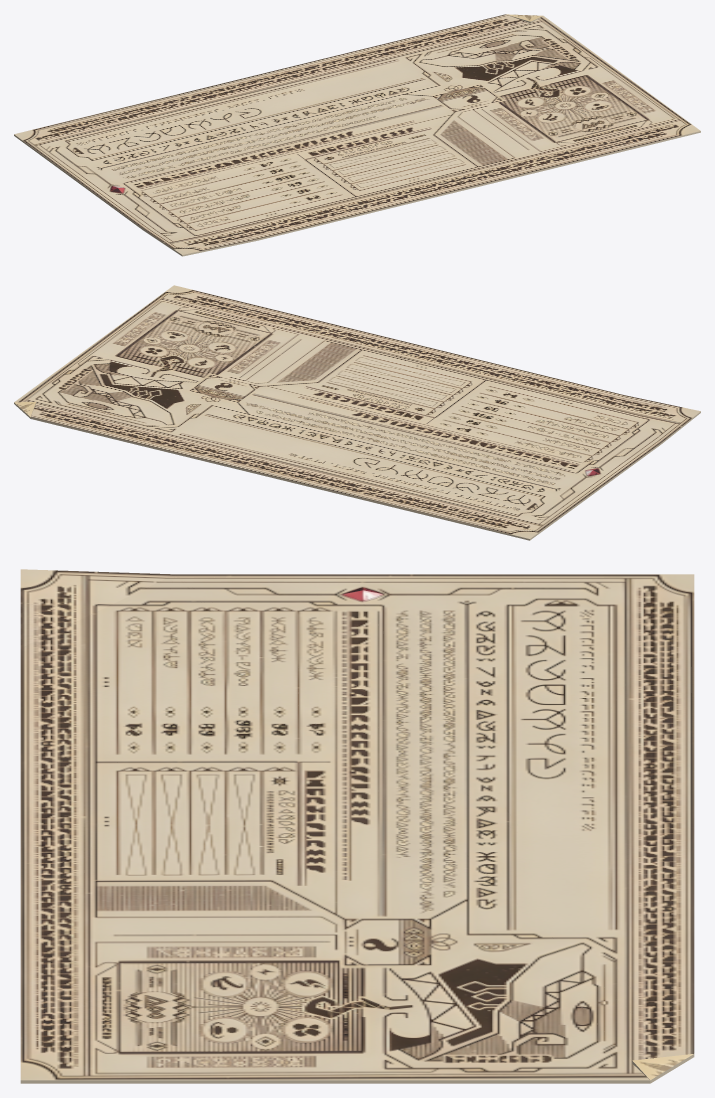
The model's file is Megumins Guild Stat Card.fbx.
3 views of the same model, one above another, from view 1: azimuth 30°, elevation 25°; view 2: azimuth 150°, elevation 25°; view 3: azimuth 270°, elevation 25° (orthographic). The views are drawn at different scales.
Parts seen in each view (by area): view 1: Cube; view 2: Cube; view 3: Cube.
Boxes of the visible parts, x1,y1,x2,y2 form: Cube: [14, 14, 700, 256]; Cube: [14, 285, 700, 540]; Cube: [20, 569, 694, 1083].
Size of the model in its own units: 1600 by 12.26 by 900.
